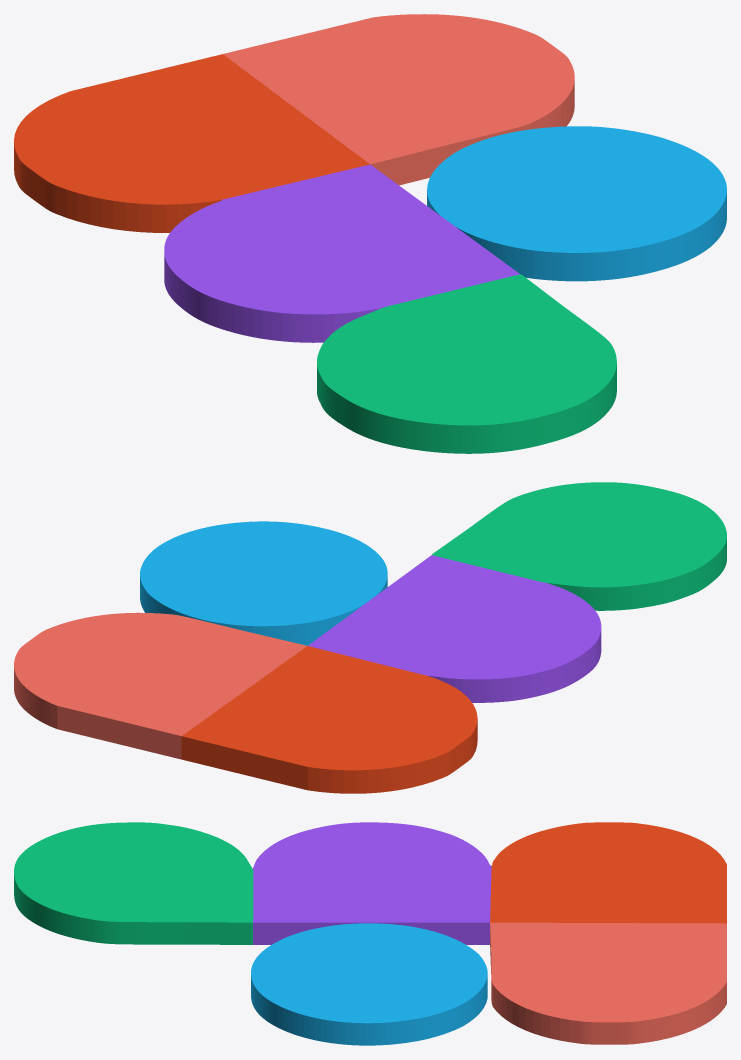
The model's file is figma.glb.
The picture shows the model from 3 angles, top to bottom: view 1: azimuth 30°, elevation 25°; view 2: azimuth 150°, elevation 25°; view 3: azimuth 270°, elevation 25°; orthographic projection. The views are drawn at different scales.
Visible parts, largest first — view 1: figma; view 2: figma; view 3: figma.
Part boxes in pixels (x1,y1,x2,y2): figma: [14, 14, 726, 453]; figma: [14, 482, 726, 793]; figma: [14, 822, 726, 1045].
Size of the model in its own units: 2.11 by 0.1137 by 3.17.
1 material, 1 textured.
